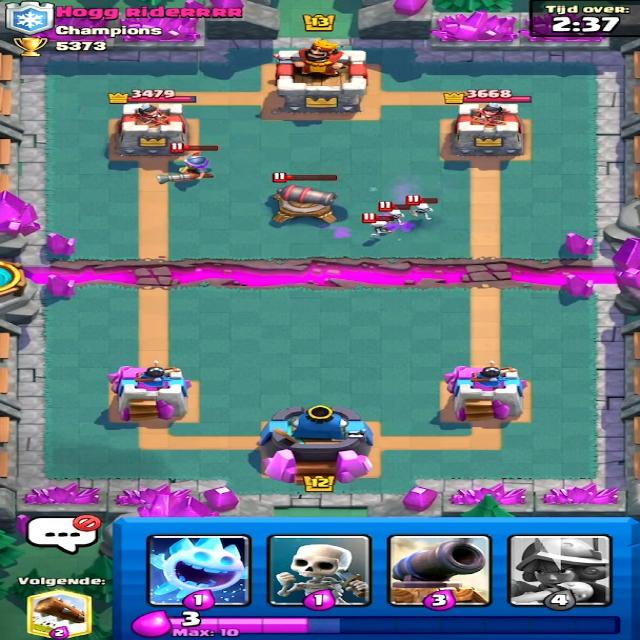Cannon_Card: (385, 533, 494, 609)
Enemy_Cannon_Troop: (261, 184, 340, 228)
Enemy_Musketeer_Troop: (158, 153, 222, 186)
Enemy_Skeleton_Troop: (405, 201, 447, 225), (382, 204, 410, 229), (363, 216, 391, 238)
Ice_Spirit_Card: (144, 535, 254, 609), (145, 535, 248, 607)
Musketeer_Card: (515, 533, 606, 608)
Skeleton_Card: (271, 540, 370, 607)
